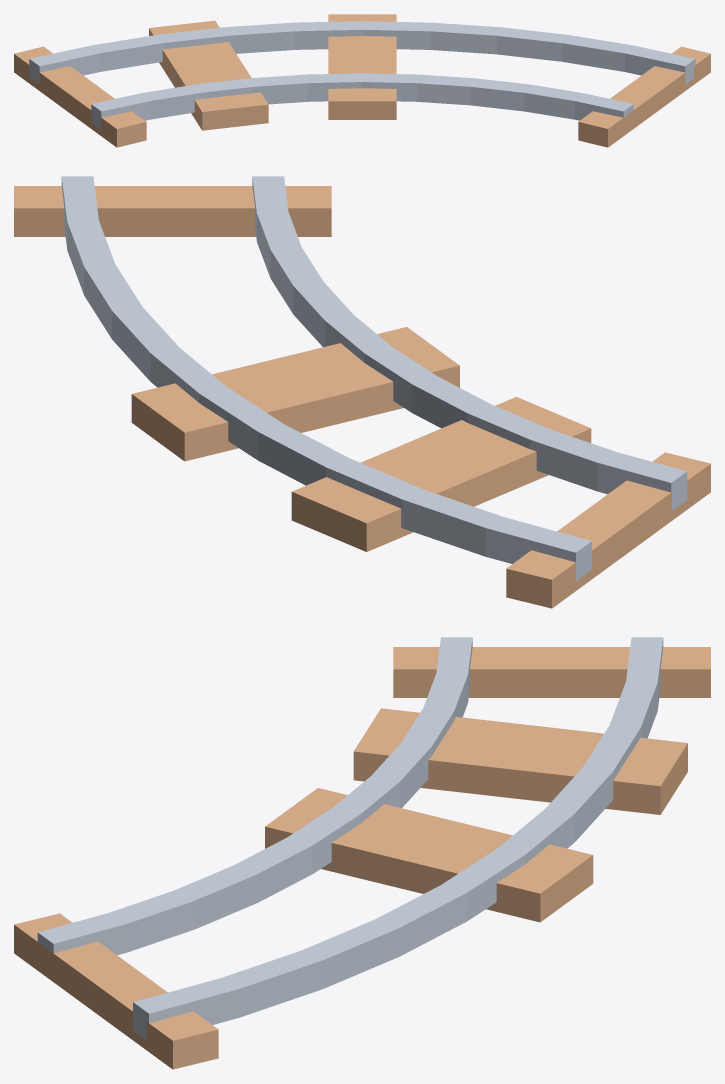
File: curved_1-_-3-4.dae
3 views of the same model, one above another, from view 1: azimuth 30°, elevation 25°; view 2: azimuth 150°, elevation 25°; view 3: azimuth 270°, elevation 25° (orthographic). The views are drawn at different scales.
Parts seen in each view (by area): view 1: Rails Curved, Beats Curved 01; view 2: Beats Curved 01, Rails Curved; view 3: Beats Curved 01, Rails Curved.
Boxes of the visible parts, x1,y1,x2,y2 form: Rails Curved: (29,21,695,129); Beats Curved 01: (14,14,710,147); Beats Curved 01: (14,186,710,608); Rails Curved: (61,176,687,581); Beats Curved 01: (14,647,710,1069); Rails Curved: (37,637,663,1039).
Bounding box in the file's own units: 0.8799 × 0.658 × 0.04.
